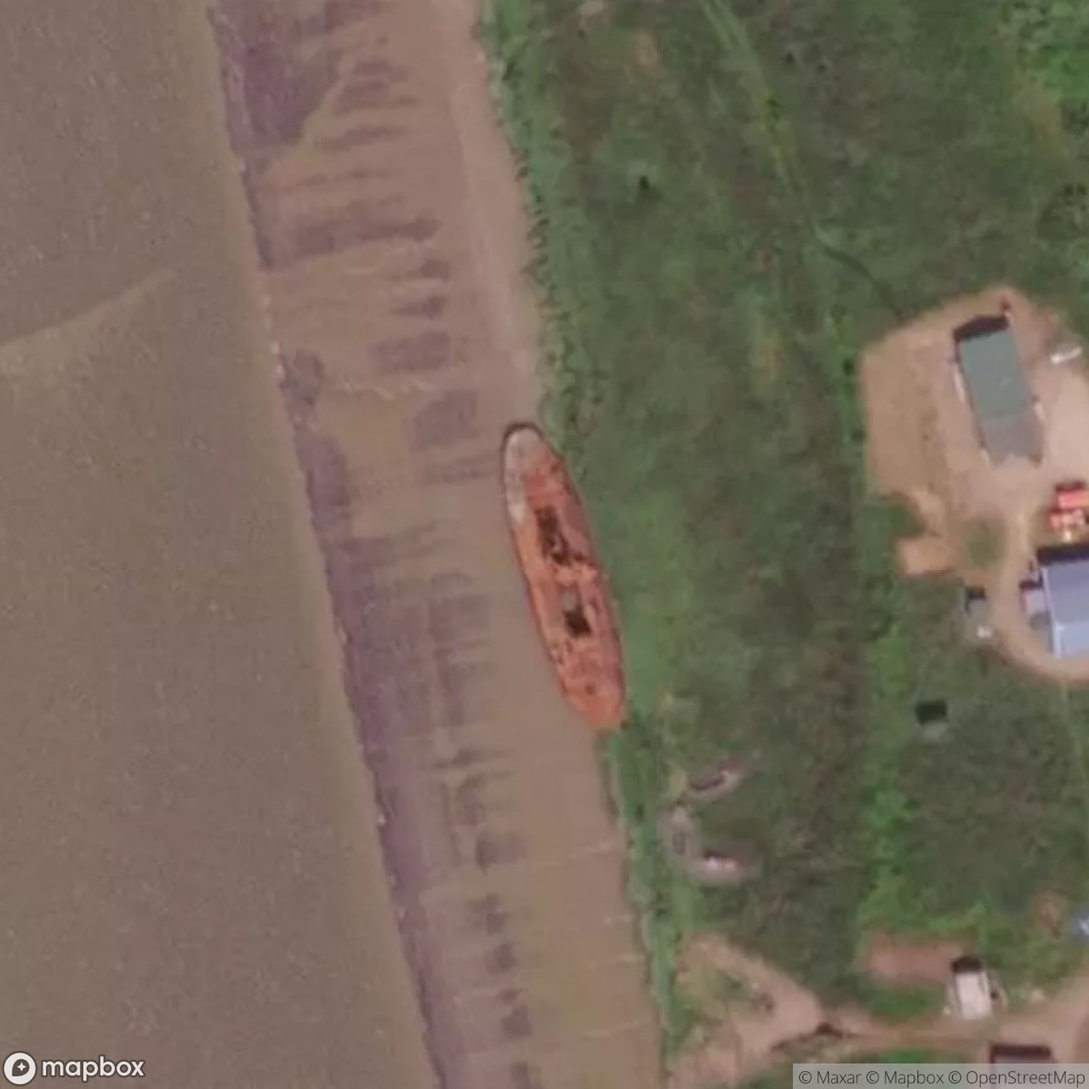Wreck: (479, 411, 645, 731)
